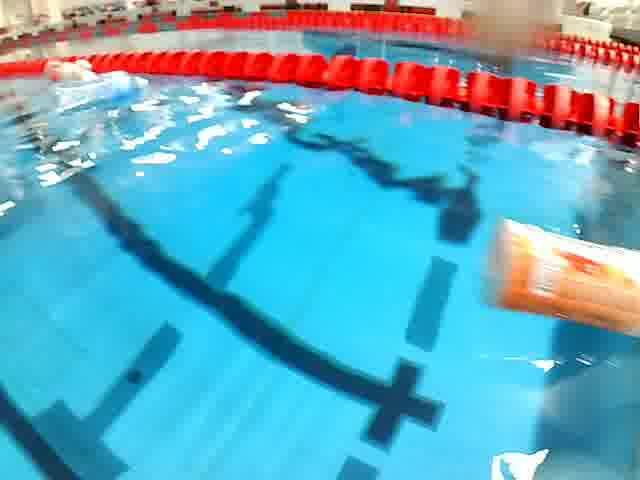Bottle: (478, 218, 640, 340)
